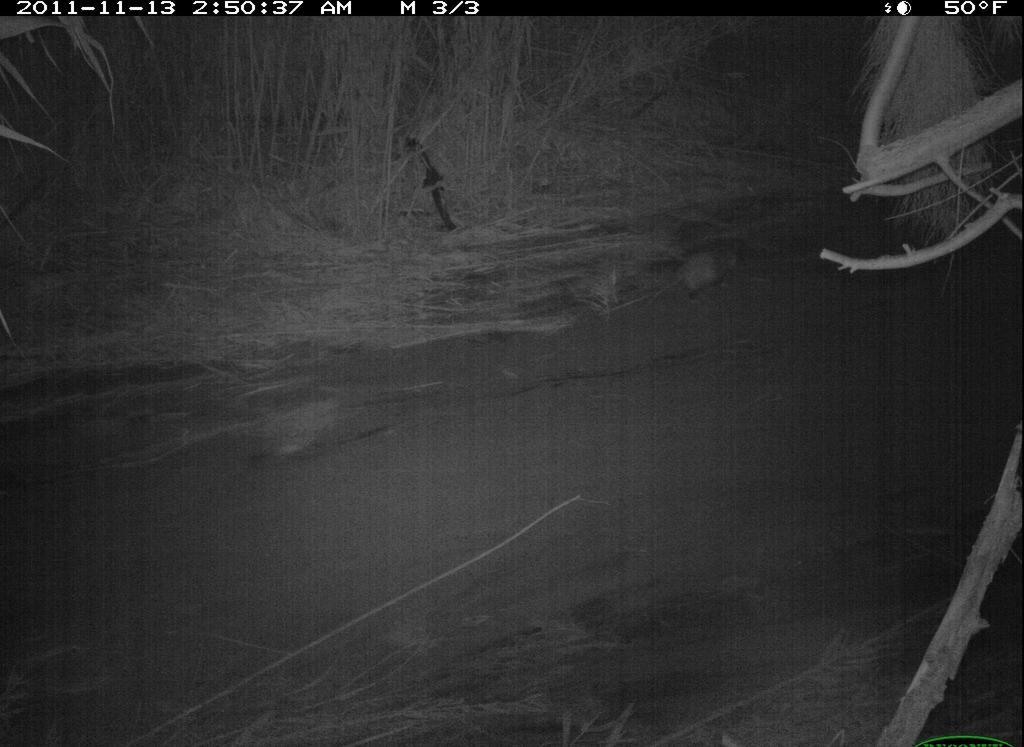opossum: (625, 237, 756, 317)
